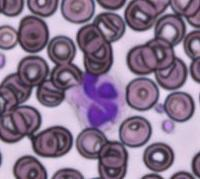N: (67, 71, 126, 132)
